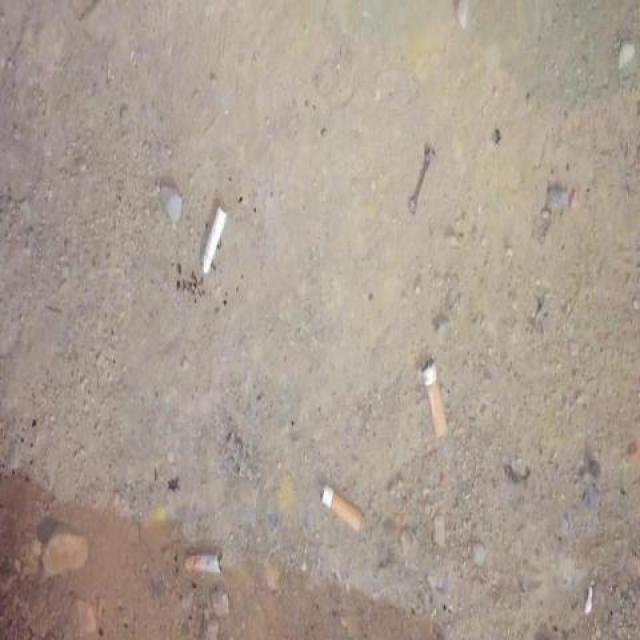non-organic waste: (415, 354, 454, 446), (316, 481, 372, 538), (197, 204, 231, 276)
